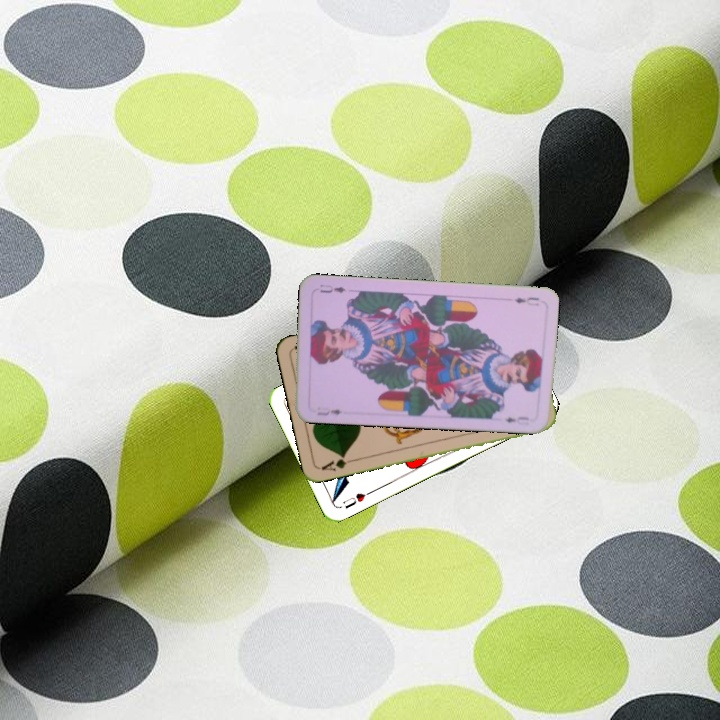EU: (510, 293, 542, 308), (313, 405, 344, 418)
GA: (317, 451, 357, 474)
HU: (338, 487, 374, 512)
